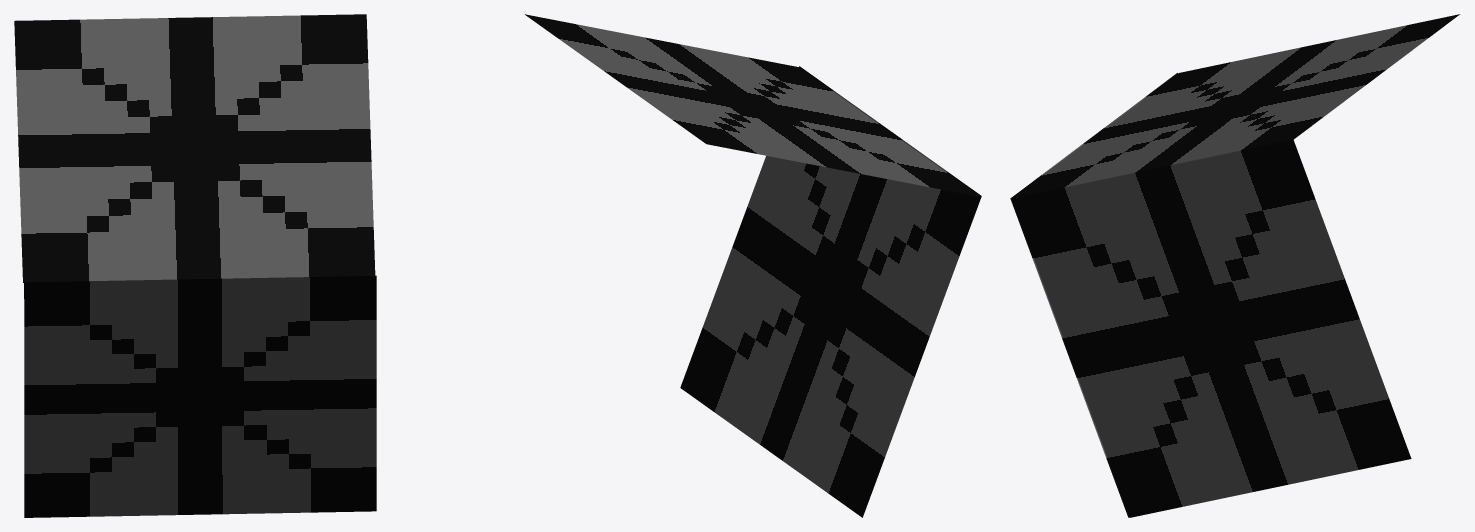
The model's file is TestBlock2.glb.
The picture shows the model from 3 angles, left to right: view 1: azimuth 30°, elevation 25°; view 2: azimuth 150°, elevation 25°; view 3: azimuth 270°, elevation 25°; orthographic projection.
Parts seen in each view (by area): view 1: mesh_id38, mesh_id30; view 2: mesh_id30, mesh_id38; view 3: mesh_id34, mesh_id38, mesh_id30.
Part boxes in pixels (x1,y1,x2,y2): mesh_id38: [14, 14, 375, 282]; mesh_id30: [24, 275, 376, 517]; mesh_id30: [680, 66, 981, 517]; mesh_id38: [525, 14, 981, 197]; mesh_id34: [1012, 139, 1411, 517]; mesh_id38: [1012, 14, 1459, 198]; mesh_id30: [1010, 73, 1177, 517].
Bounding box in the file's own units: 0.1035 × 0.0905 × 0.0886.
Materials: 3 (3 with a texture image).
